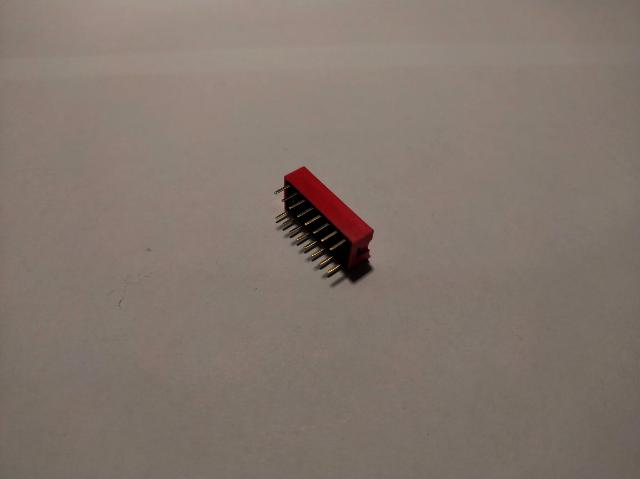dip_switch: (276, 165, 374, 275)
